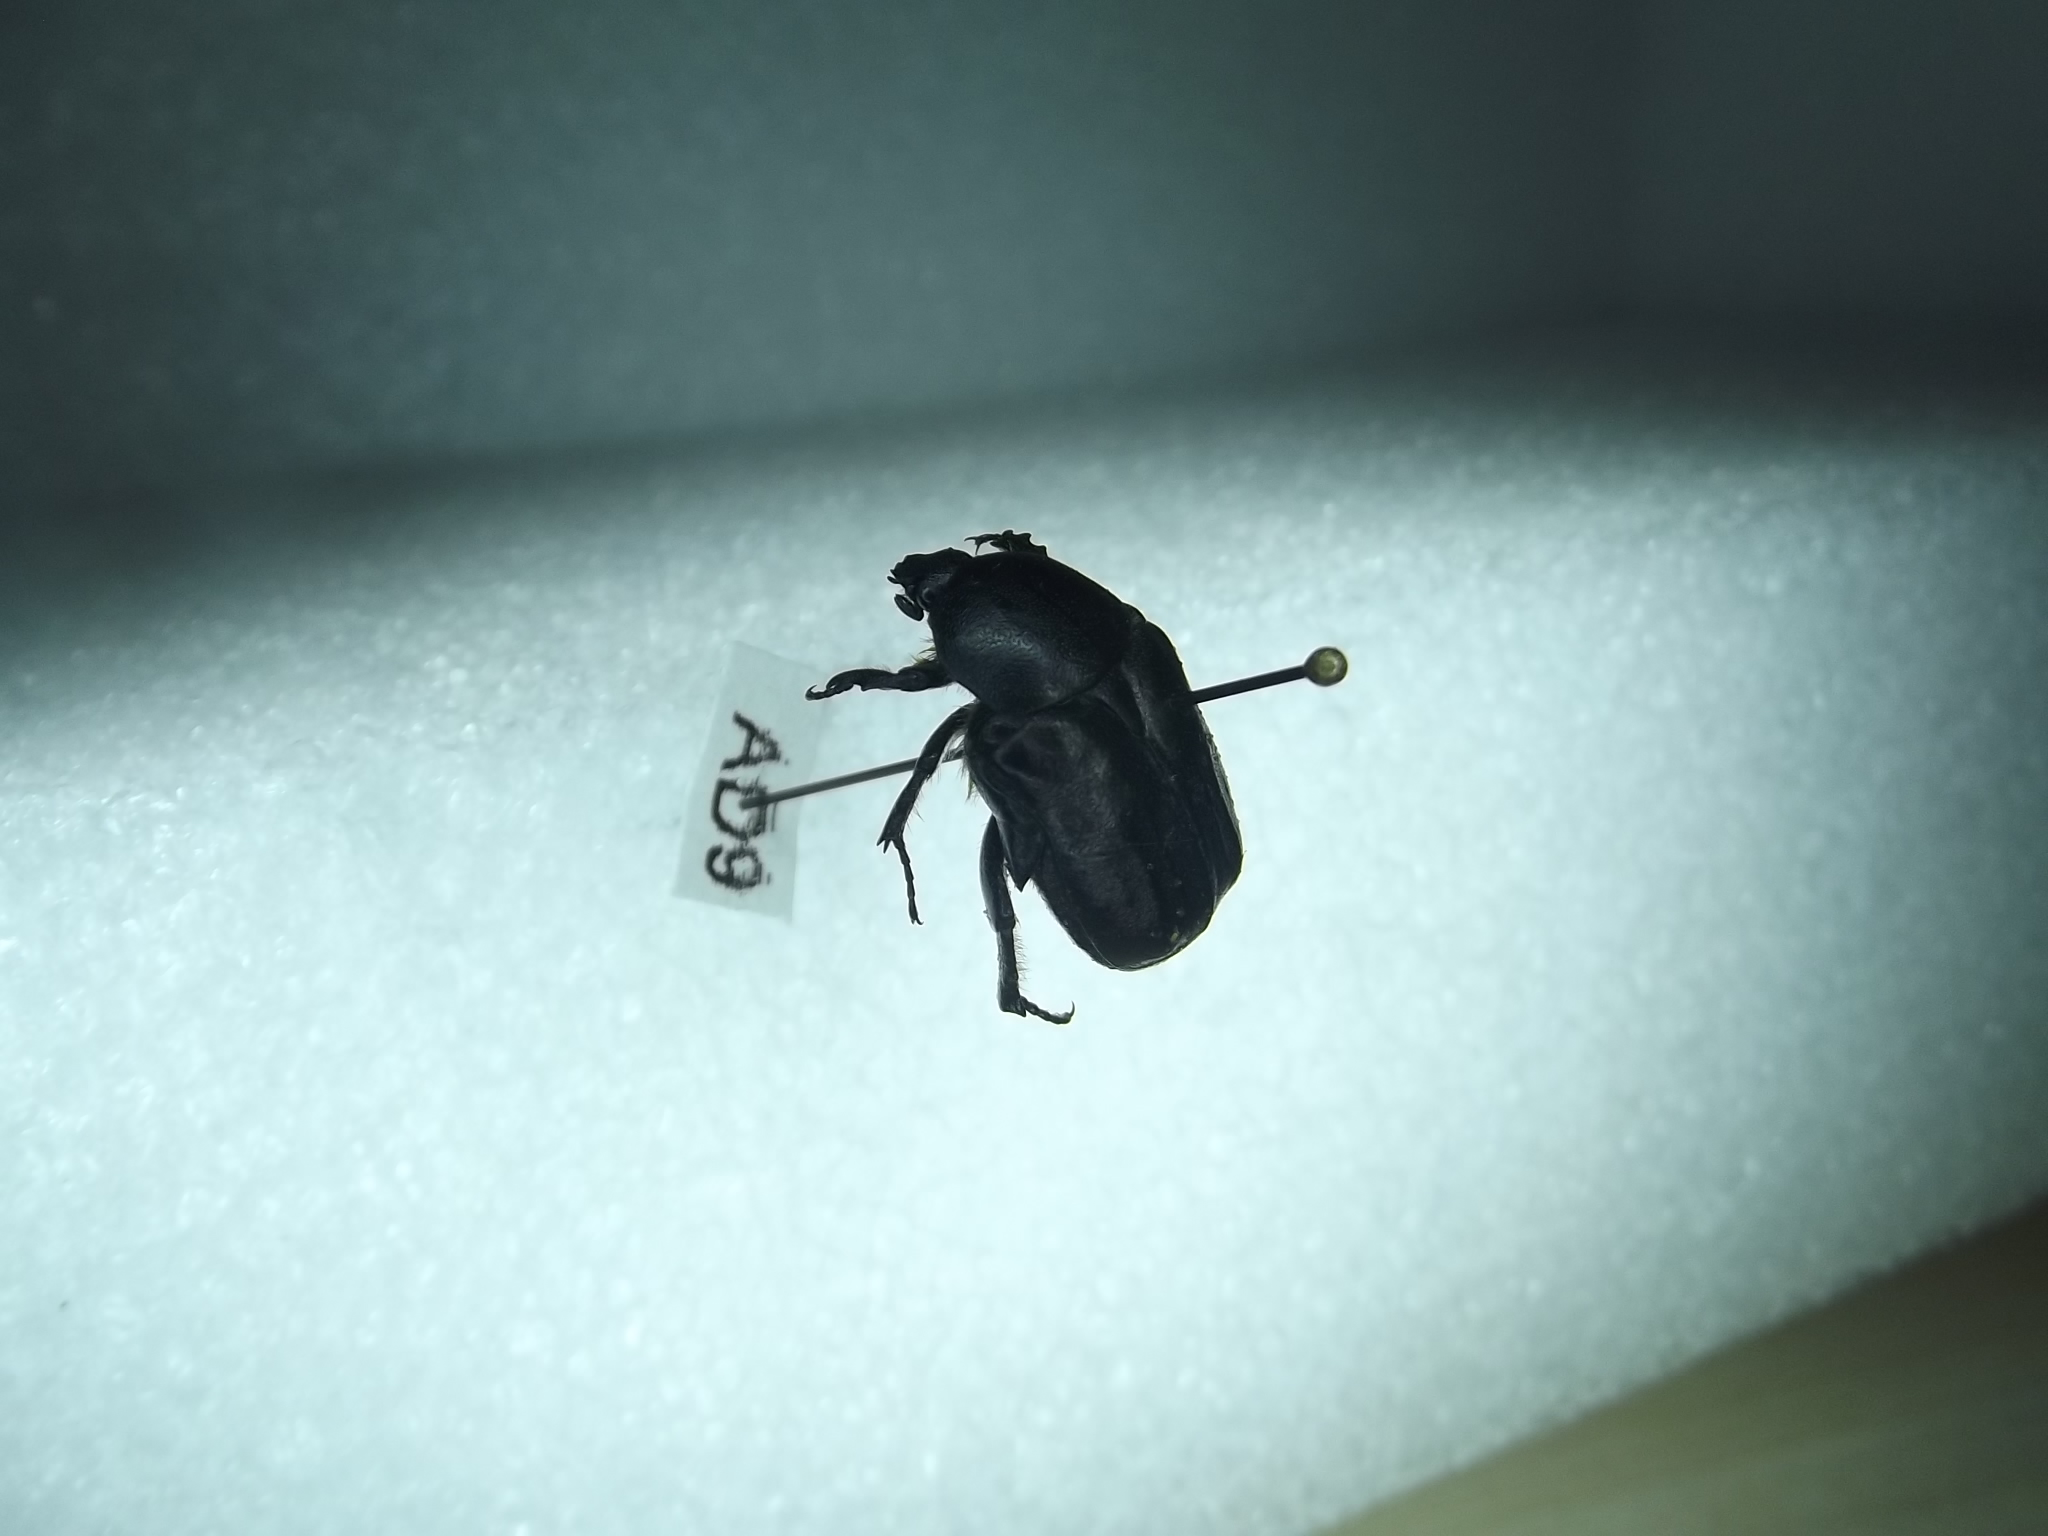Protaetia_vidua: (792, 481, 1259, 1050)
